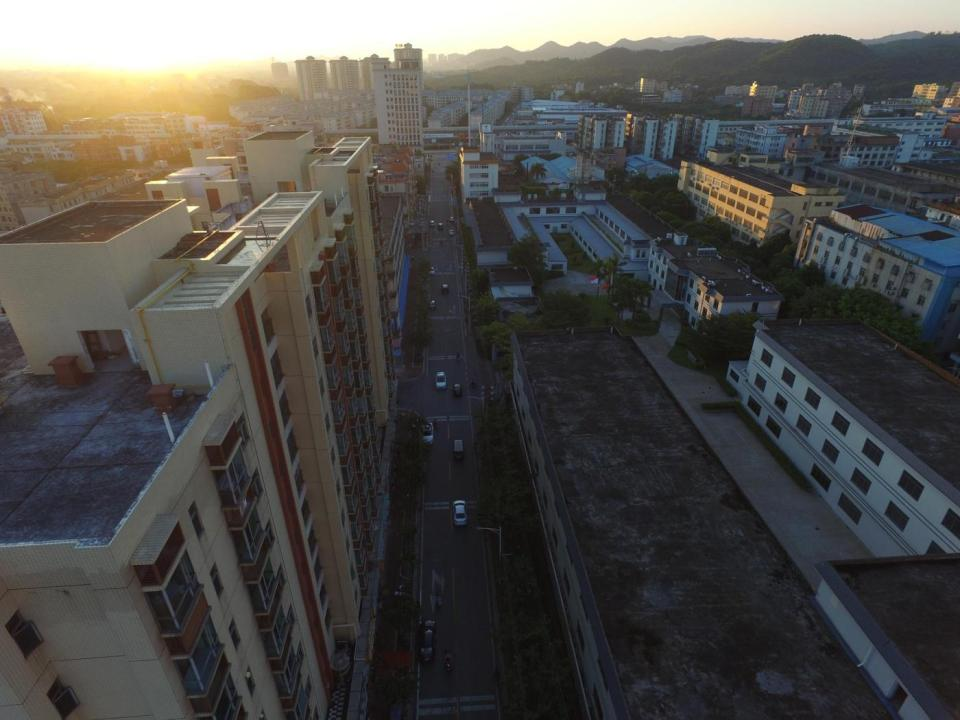car: (418, 619, 436, 665), (452, 500, 468, 528), (420, 422, 434, 445), (434, 372, 447, 390), (452, 382, 463, 397), (440, 282, 450, 293), (427, 300, 436, 310), (428, 266, 435, 276), (438, 223, 444, 230), (448, 229, 454, 236), (429, 220, 434, 226)
van: (451, 438, 466, 462)
